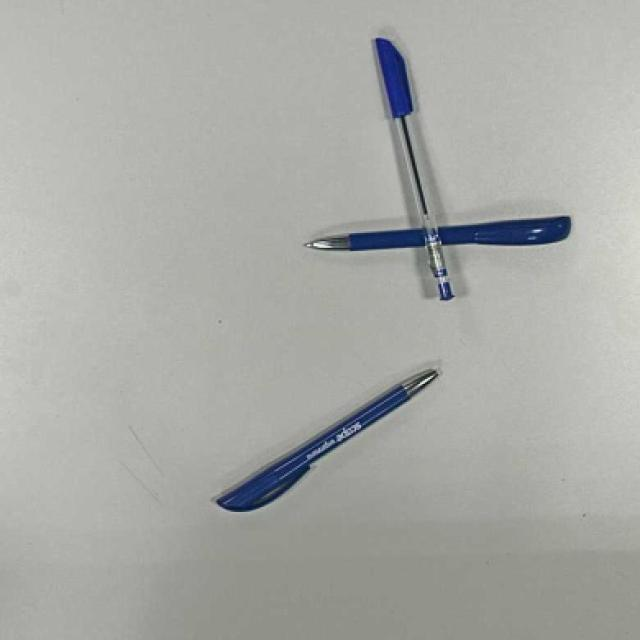caneta: (215, 365, 449, 527), (374, 32, 462, 303), (305, 217, 571, 263)
